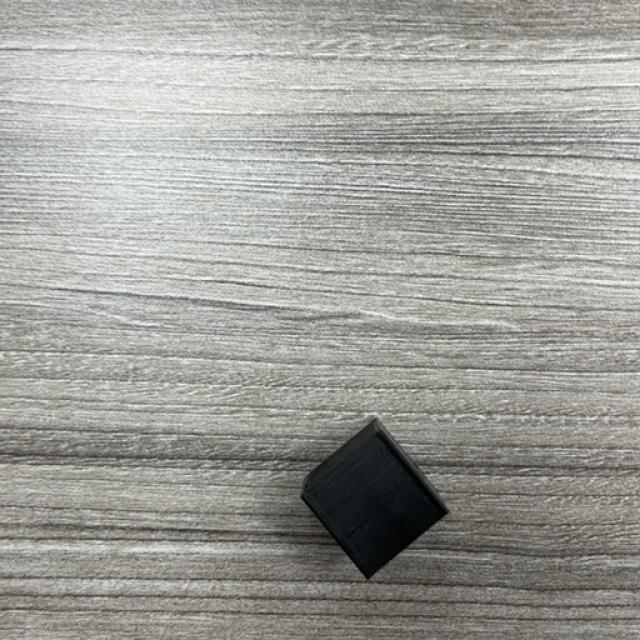Negro: (300, 419, 450, 581)
